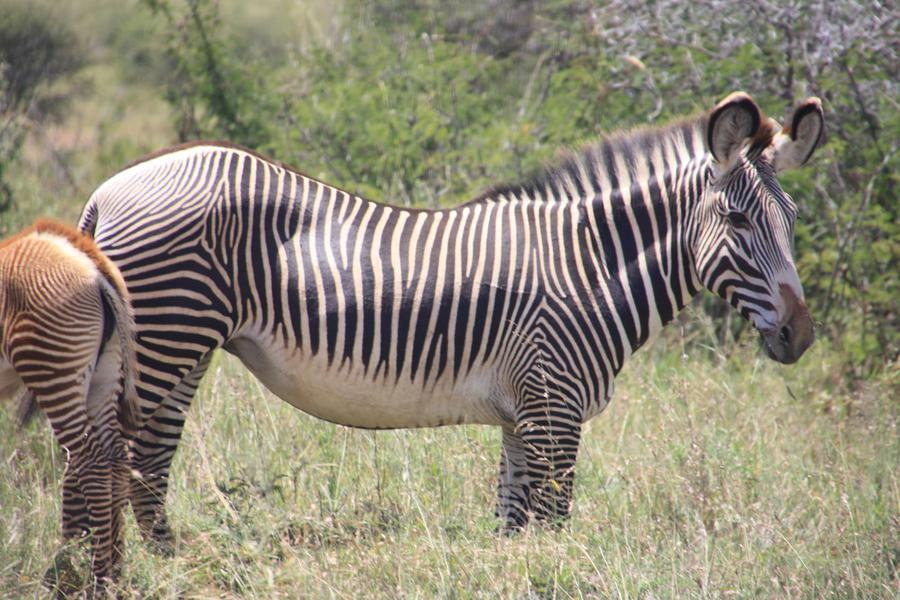zebra_grevys: (92, 118, 585, 426)
